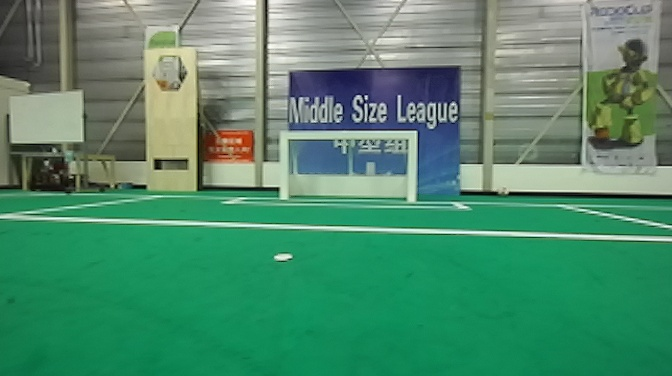ball: (493, 186, 511, 201)
goalpost: (402, 128, 421, 209), (279, 130, 297, 202)
